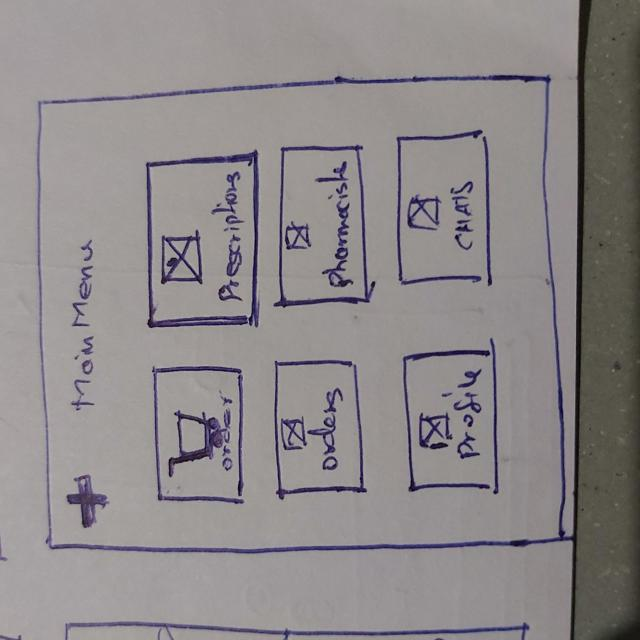CloseButton: (65, 474, 110, 529)
Icon: (166, 409, 220, 483)
Image: (163, 238, 205, 284), (406, 195, 441, 236), (418, 413, 452, 448), (281, 418, 310, 452)
Layout: (144, 153, 262, 326), (275, 144, 371, 307), (394, 132, 493, 285), (400, 352, 503, 494), (151, 365, 250, 505), (275, 358, 364, 496)
MainLayout: (25, 72, 573, 557)
TextView: (68, 240, 97, 408), (325, 160, 355, 289), (226, 169, 243, 307), (457, 368, 481, 462), (451, 183, 477, 252), (322, 387, 340, 471), (221, 396, 234, 472)
